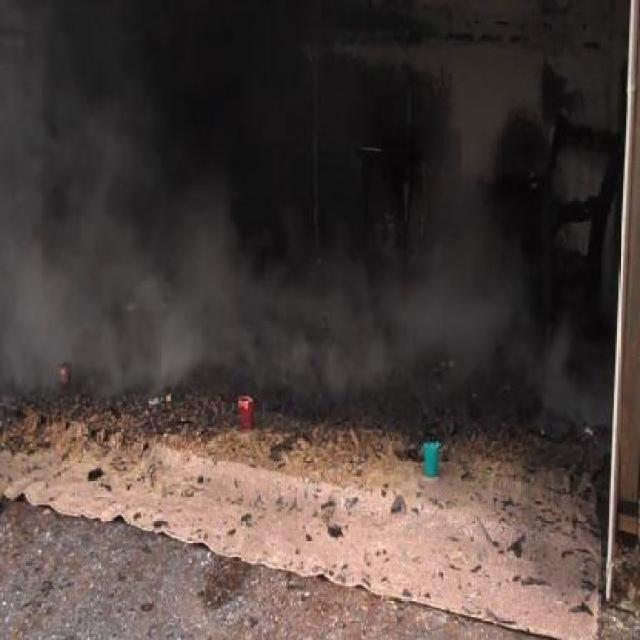smoke: (21, 59, 566, 444)
